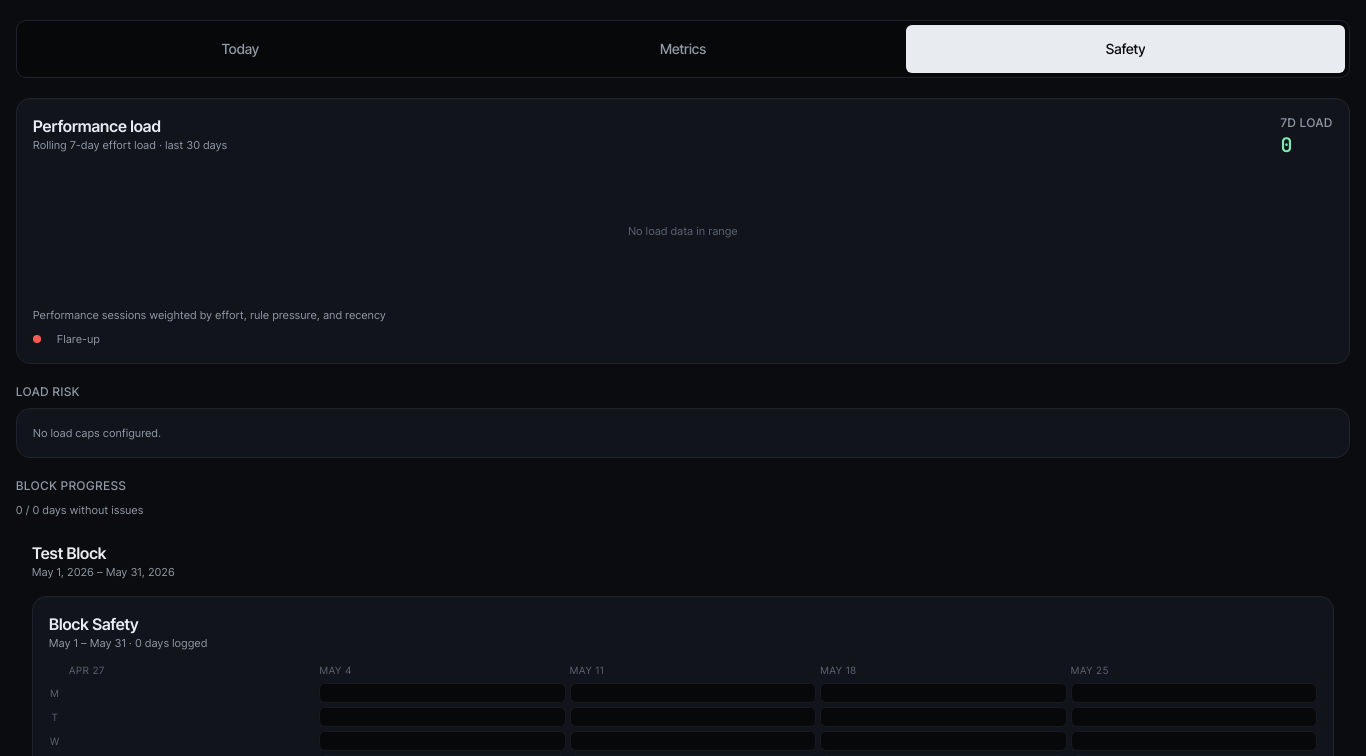
Test: DashboardScreen — empty-state copy quality › AC-9a: weekly targets empty state contains no "configured" jargon
The image size is (1366, 756).
Step 1. Click the radio button labelled "Metrics" → (683, 49), box x1=464 y1=25 x2=902 y2=73
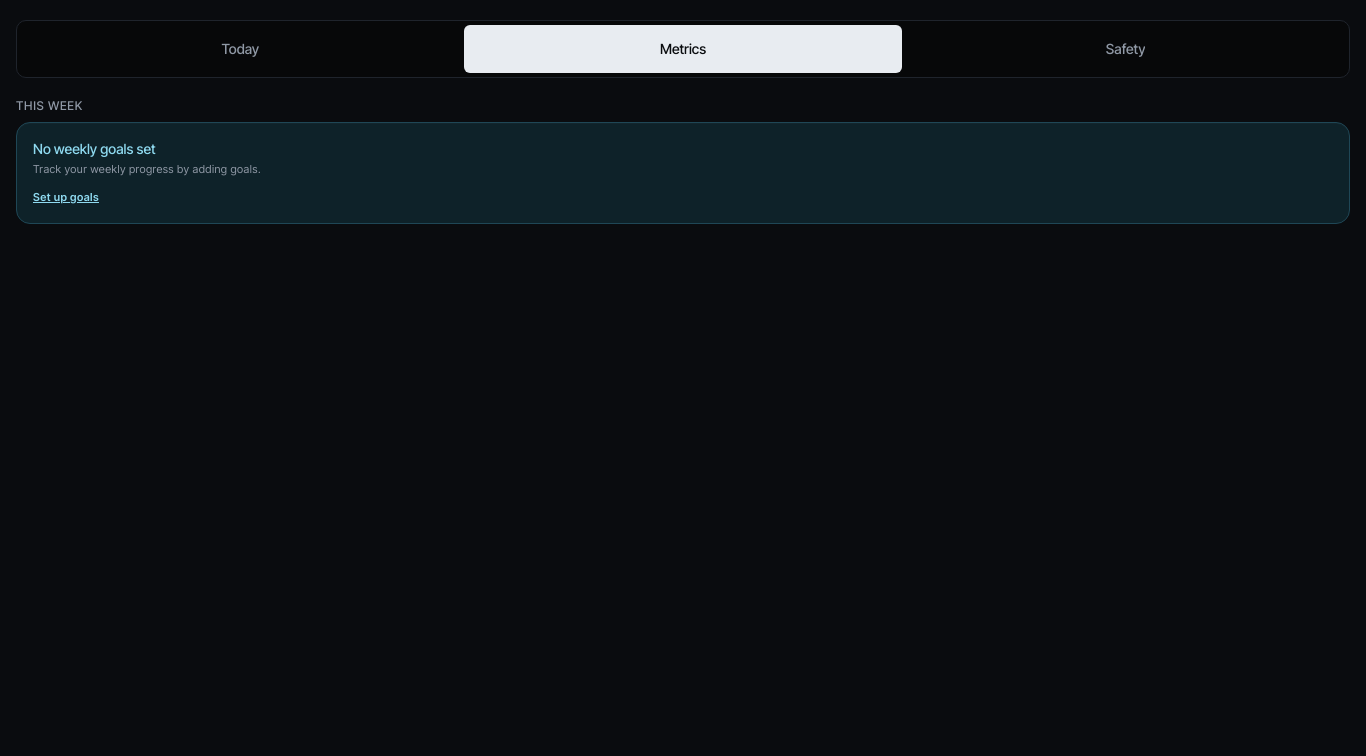
Expected: the text with test id "weekly-targets-empty-state" no longer shows "configured"
